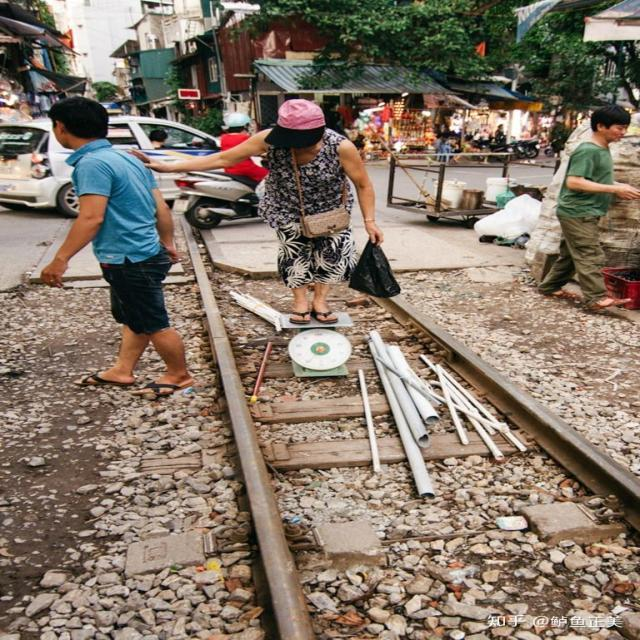people: (16, 97, 204, 403), (202, 91, 394, 324), (557, 108, 633, 308)
vehicle: (1, 110, 222, 218), (173, 163, 279, 228)
